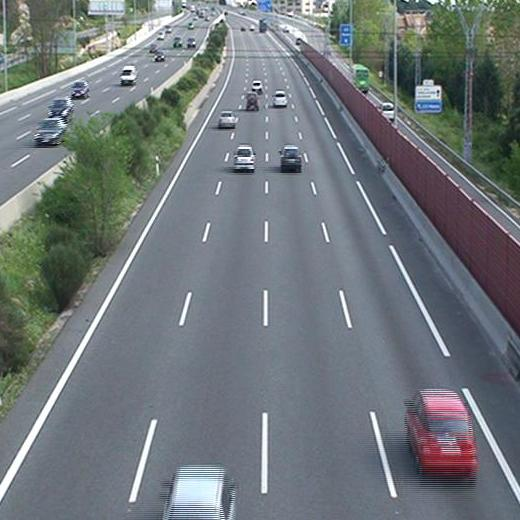car: (403, 388, 479, 477), (232, 145, 255, 171), (279, 145, 302, 169), (244, 92, 260, 111), (217, 111, 236, 127), (273, 90, 287, 106)
